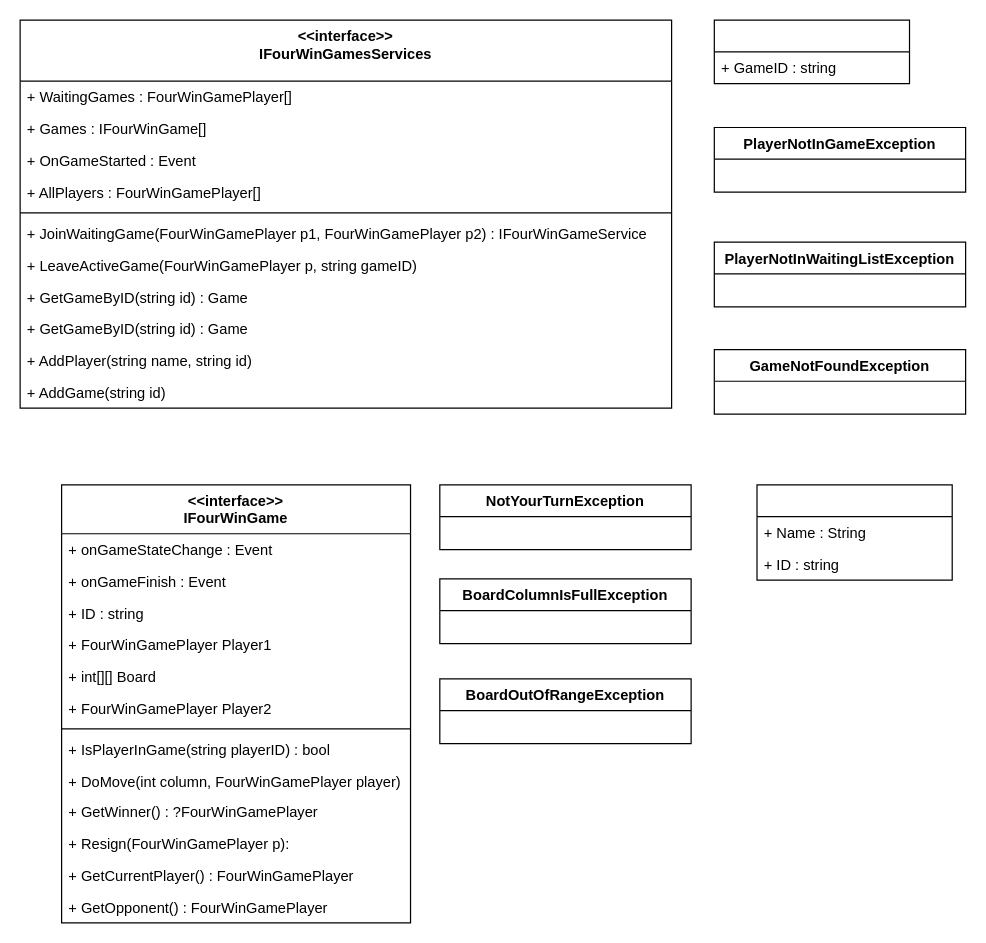
Image size: 986x943. Some labels were removed from this diagram. Here are the shapes that lost their labels. From the top down, the box of each, then its label:
(713, 19, 910, 84): GameStartedEventArgs
(756, 484, 952, 580): FourWinGamePlayer
